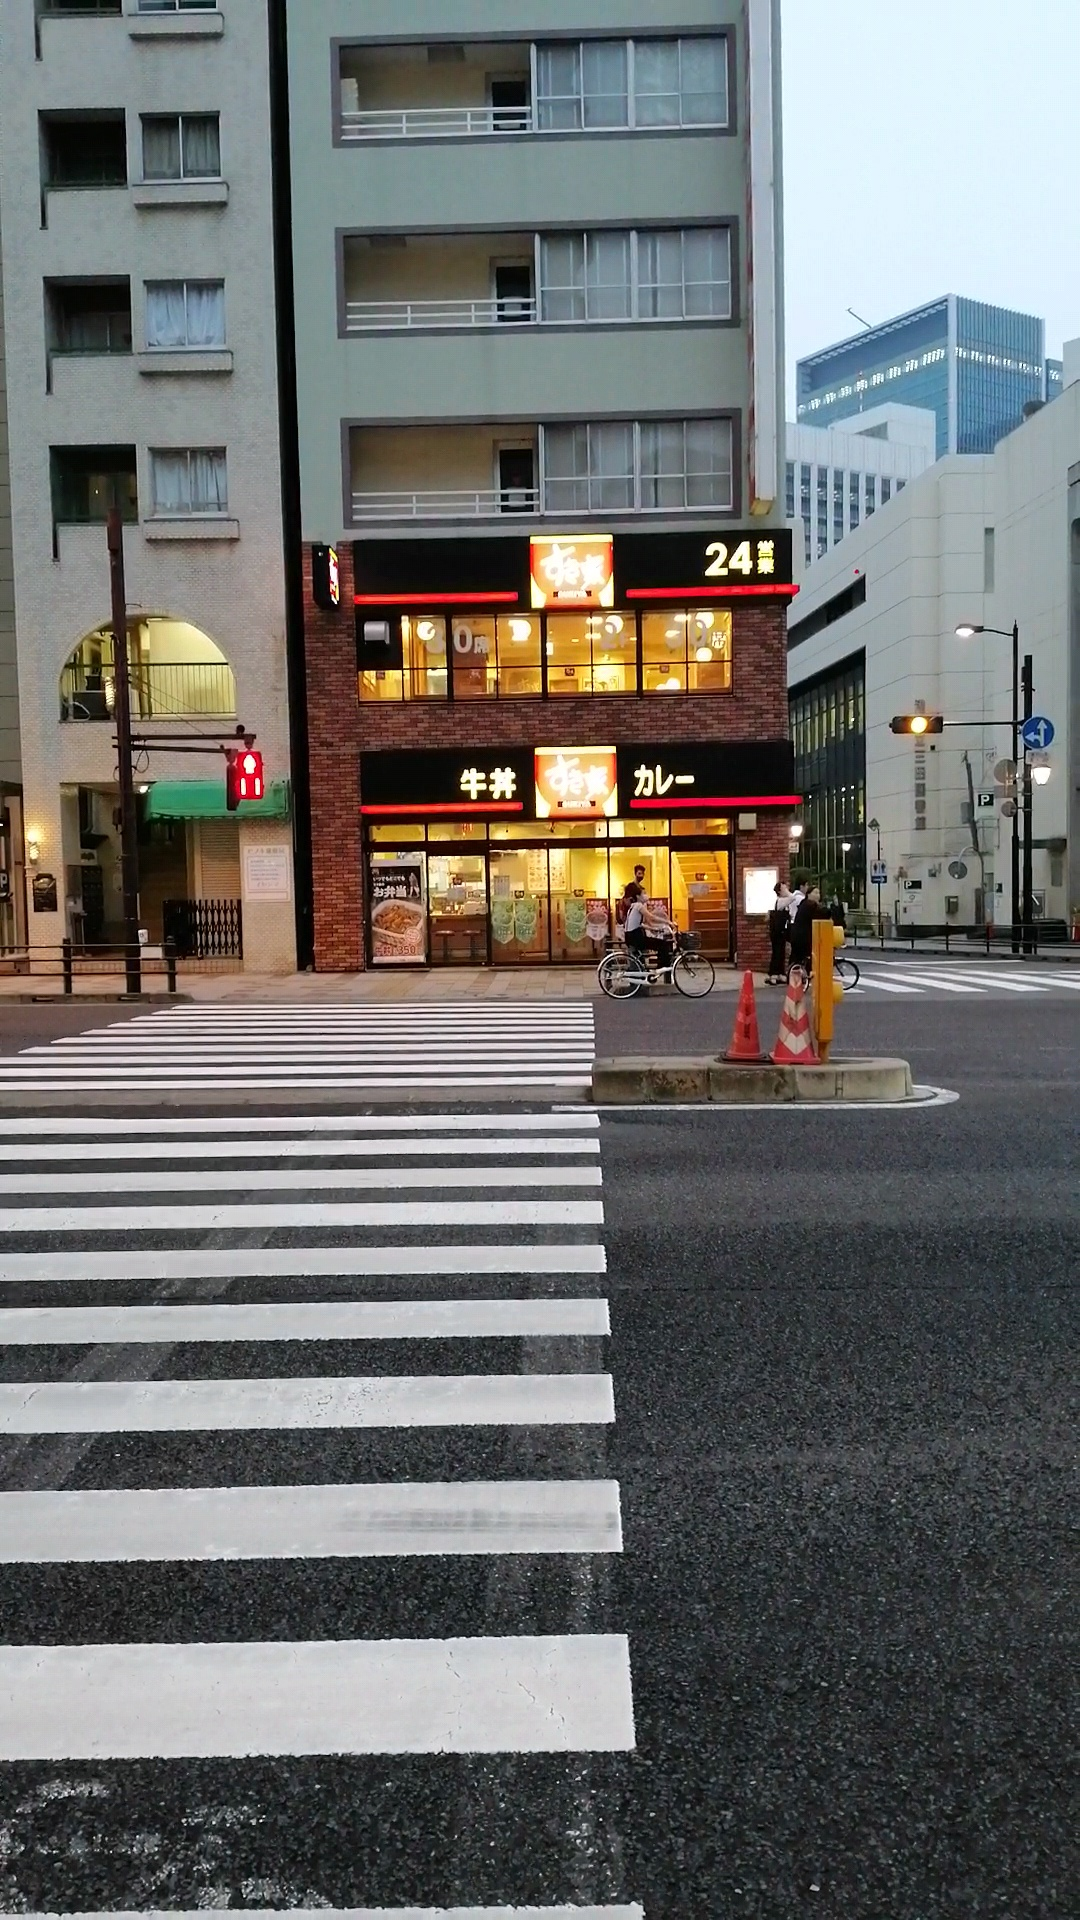red: (235, 750, 262, 799)
